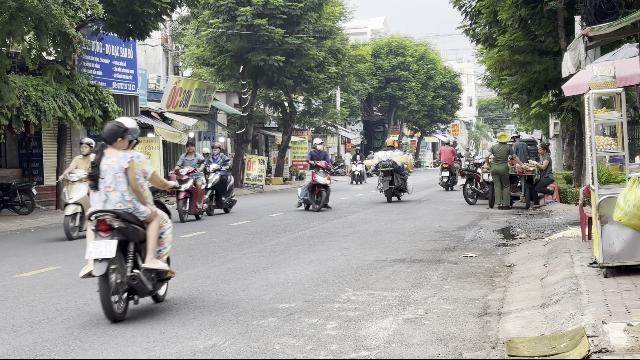helmet: (115, 116, 141, 150), (78, 137, 94, 155)
licenseplate: (86, 240, 118, 260)
motorcyclist: (77, 114, 177, 322), (56, 131, 96, 241), (172, 139, 208, 221)
nohelmet: (100, 120, 130, 152), (184, 140, 196, 152)
